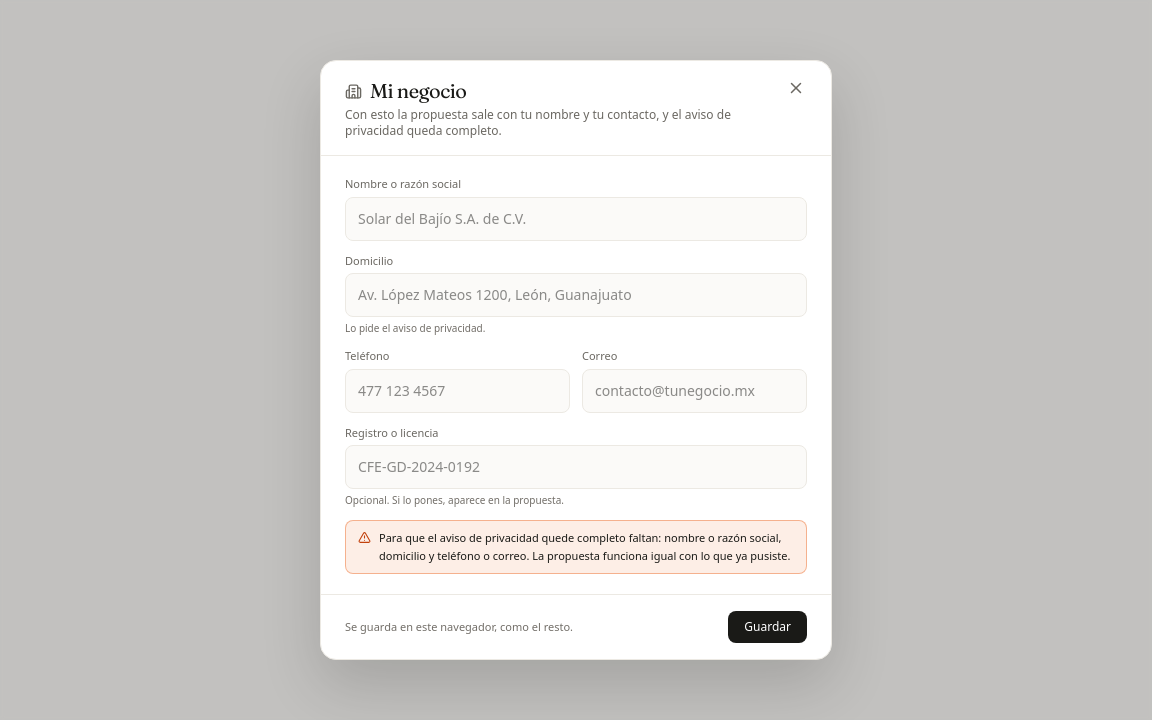
Test case: Mi negocio › si el almacenamiento rechaza la escritura lo dice, en vez de confirmar
In the field with placeholder "Solar del Bajío S.A. de C.V.": (576,219) [345, 197, 807, 241], type "Solar Norte"
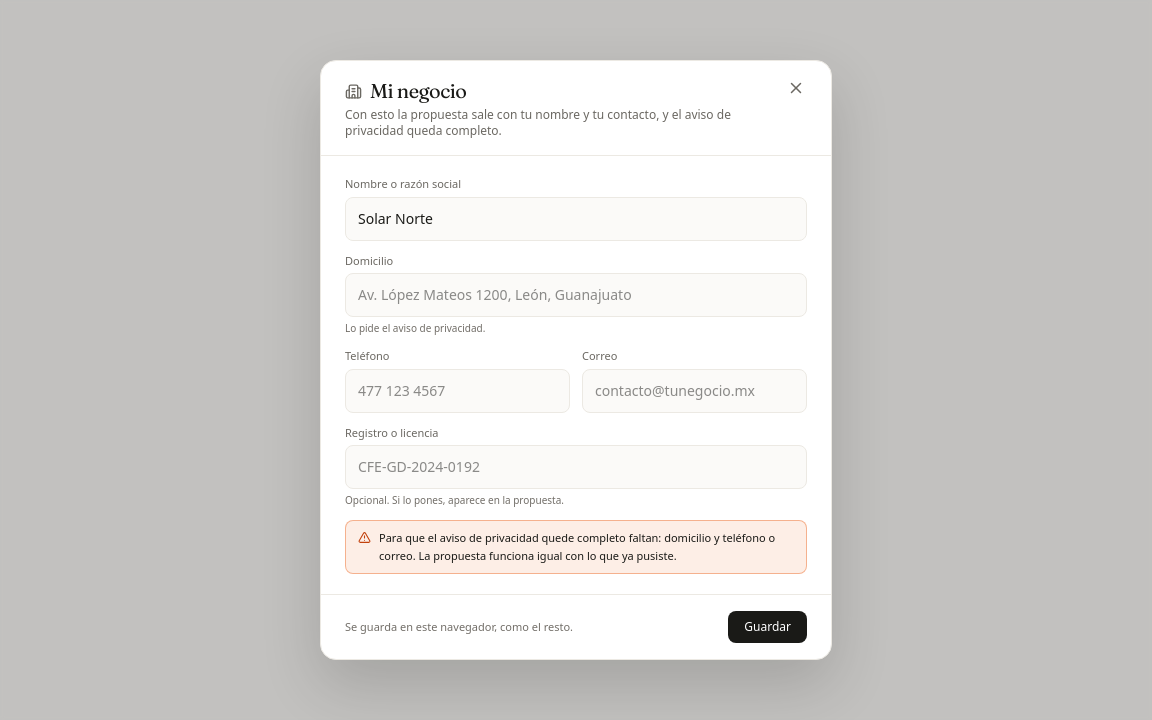
Click the button "Guardar": (768,627) [728, 611, 807, 643]
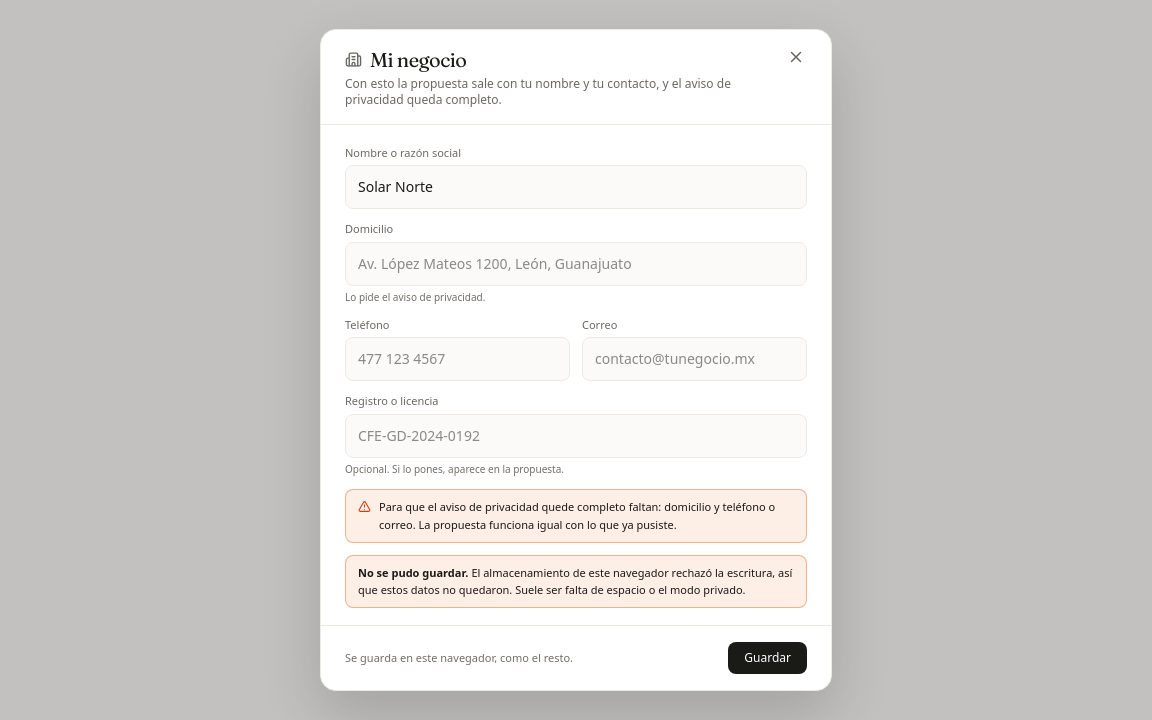
Now the text "No se pudo guardar." is shown, box [358, 564, 468, 580]
